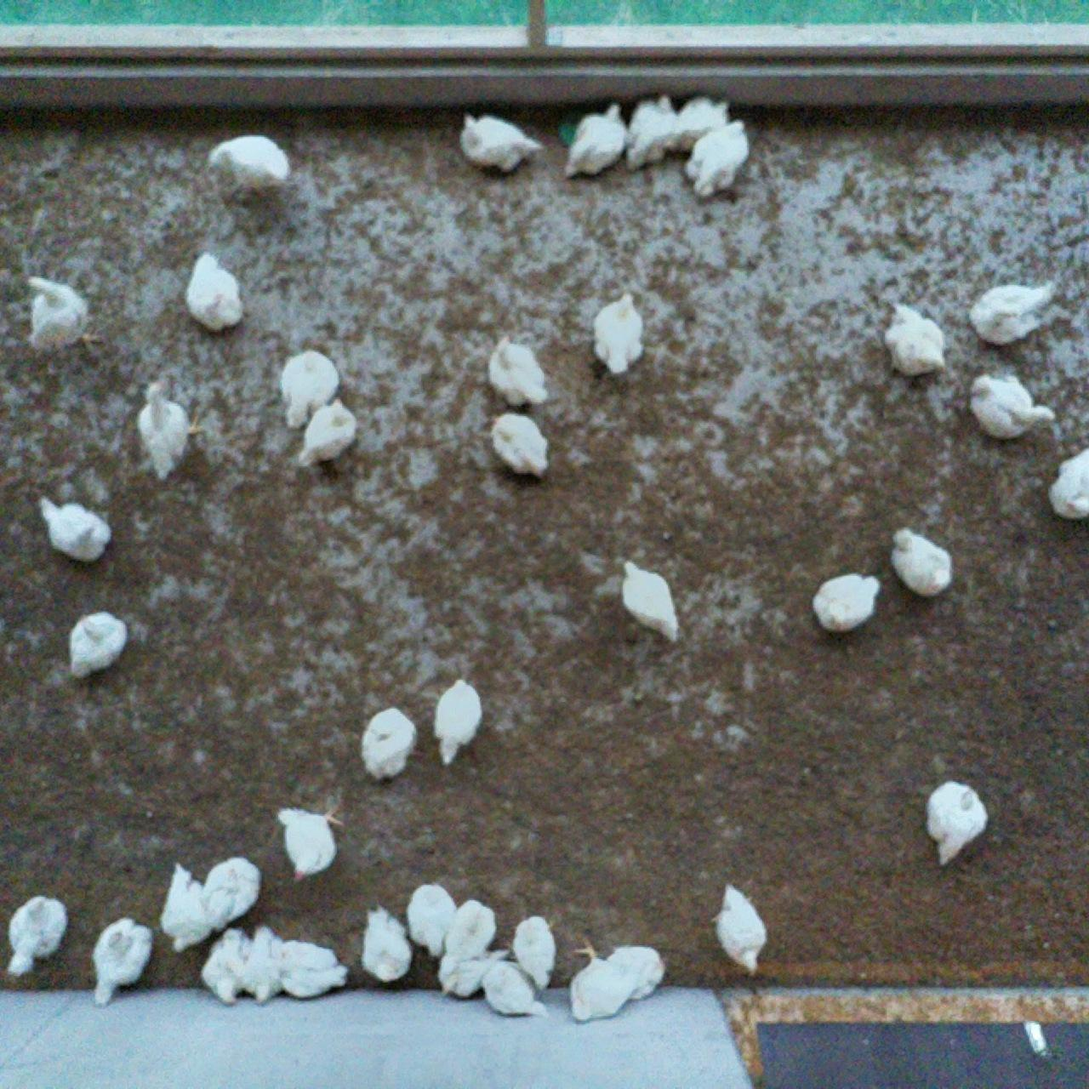chicken: (135, 376, 210, 483), (964, 369, 1059, 443), (20, 271, 100, 358), (203, 130, 294, 203), (87, 914, 156, 1010), (158, 857, 222, 958), (966, 277, 1061, 345), (677, 114, 752, 200), (562, 97, 635, 185), (1, 891, 70, 982), (566, 936, 634, 1027), (273, 802, 348, 884), (182, 249, 250, 337), (924, 777, 989, 869), (38, 488, 113, 567), (264, 932, 351, 1000), (274, 344, 341, 432), (619, 554, 683, 646), (887, 519, 961, 598), (483, 327, 552, 411), (880, 301, 950, 383), (455, 110, 543, 175), (587, 289, 649, 377), (713, 881, 771, 975), (198, 851, 264, 933), (808, 569, 887, 637), (657, 90, 734, 158), (291, 399, 363, 471), (432, 672, 486, 768), (65, 605, 129, 683), (486, 408, 551, 483), (623, 90, 682, 172), (480, 955, 549, 1023), (440, 893, 501, 969), (358, 708, 420, 781), (406, 881, 460, 962), (201, 928, 255, 1009), (235, 924, 288, 1005), (436, 949, 514, 1004), (360, 904, 414, 983), (508, 912, 560, 994), (602, 941, 668, 1003), (1046, 439, 1089, 526)
